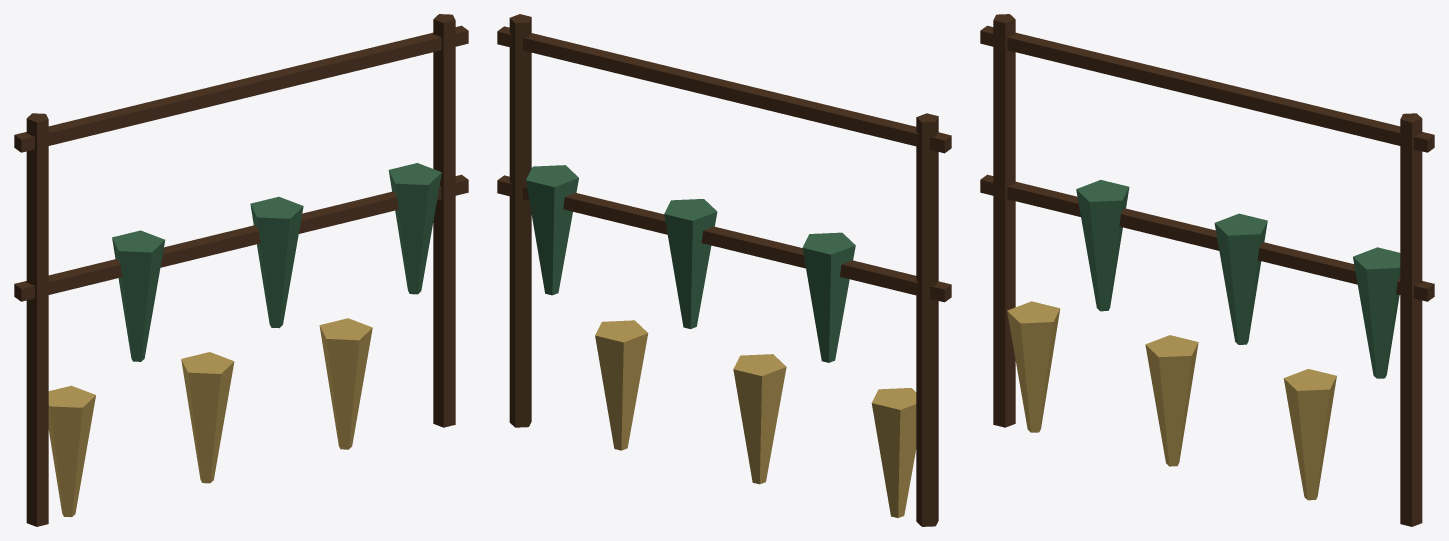
Rendered from br_herb_rack.glb.
The picture shows the model from 3 angles, left to right: view 1: azimuth 30°, elevation 25°; view 2: azimuth 150°, elevation 25°; view 3: azimuth 330°, elevation 25°; orthographic projection.
Visible parts, largest first — view 1: br_herb_rack; view 2: br_herb_rack; view 3: br_herb_rack.
Part boxes in pixels (<box>): br_herb_rack: <box>14,14,468,526</box>; br_herb_rack: <box>497,14,951,526</box>; br_herb_rack: <box>980,14,1434,526</box>.
Bounding box in the file's own units: 2.2 × 1.9 × 0.2171.
